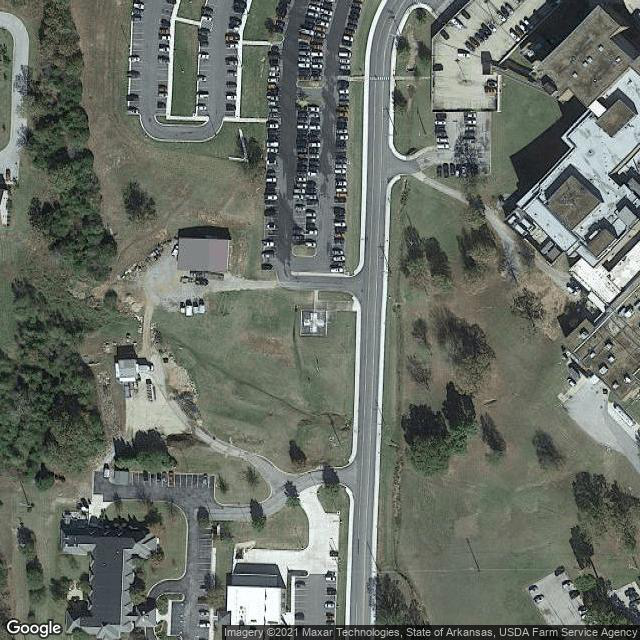Helipad: (300, 309, 328, 335)
